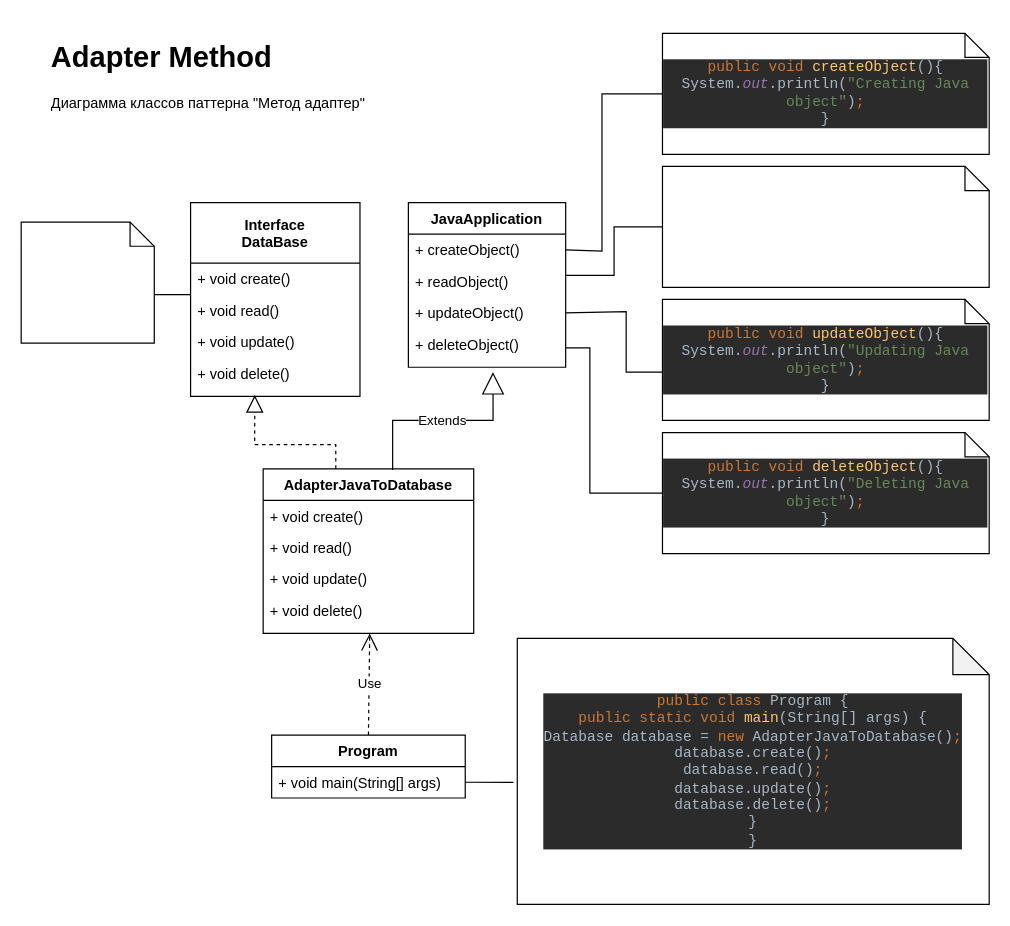
This 1010x926 diagram has some shape labels left out. The shapes that lost their labels are listed below. From the top down, each one's centre as x and y in pixels, then its label:
point 825,226: public void readObject (){ System. out .println( "Reading Java object" ) ; }
point 87,282: void create () ; void read () ; void update () ; void delete () ;
